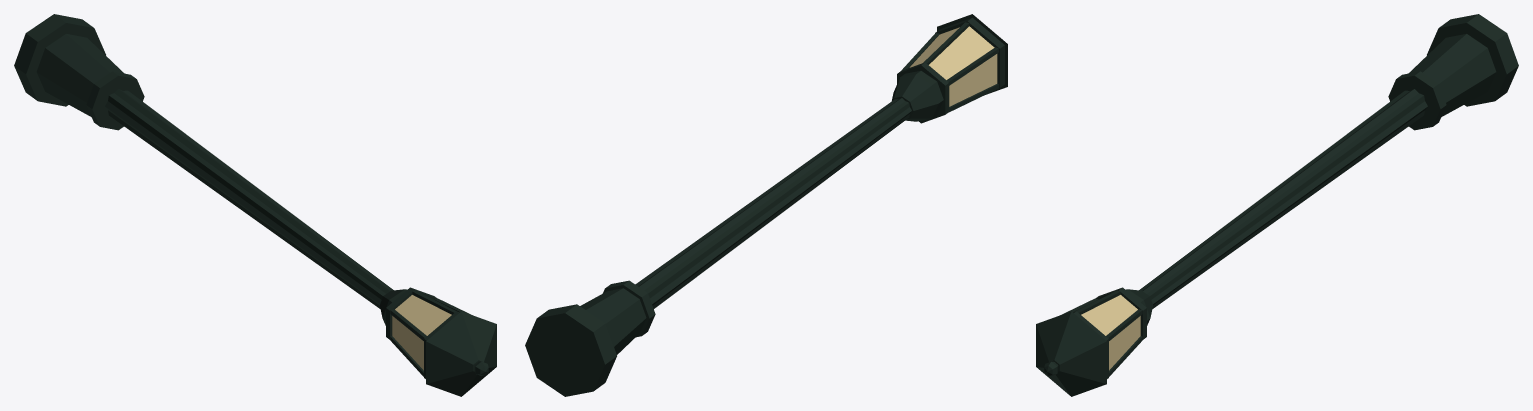
File: lamp-park-bcn.glb
The picture shows the model from 3 angles, left to right: view 1: azimuth 30°, elevation 25°; view 2: azimuth 150°, elevation 25°; view 3: azimuth 330°, elevation 25°; orthographic projection.
Visible parts, largest first — view 1: lamp-park-bcn; view 2: lamp-park-bcn; view 3: lamp-park-bcn.
Boxes of the visible parts, x1,y1,x2,y2 form: lamp-park-bcn: (14, 14, 496, 396); lamp-park-bcn: (525, 14, 1007, 396); lamp-park-bcn: (1036, 14, 1518, 396).
Size of the model in its own units: 0.46 by 0.47 by 4.29.
